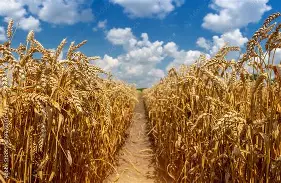crops: (0, 21, 138, 179), (146, 12, 276, 179)
